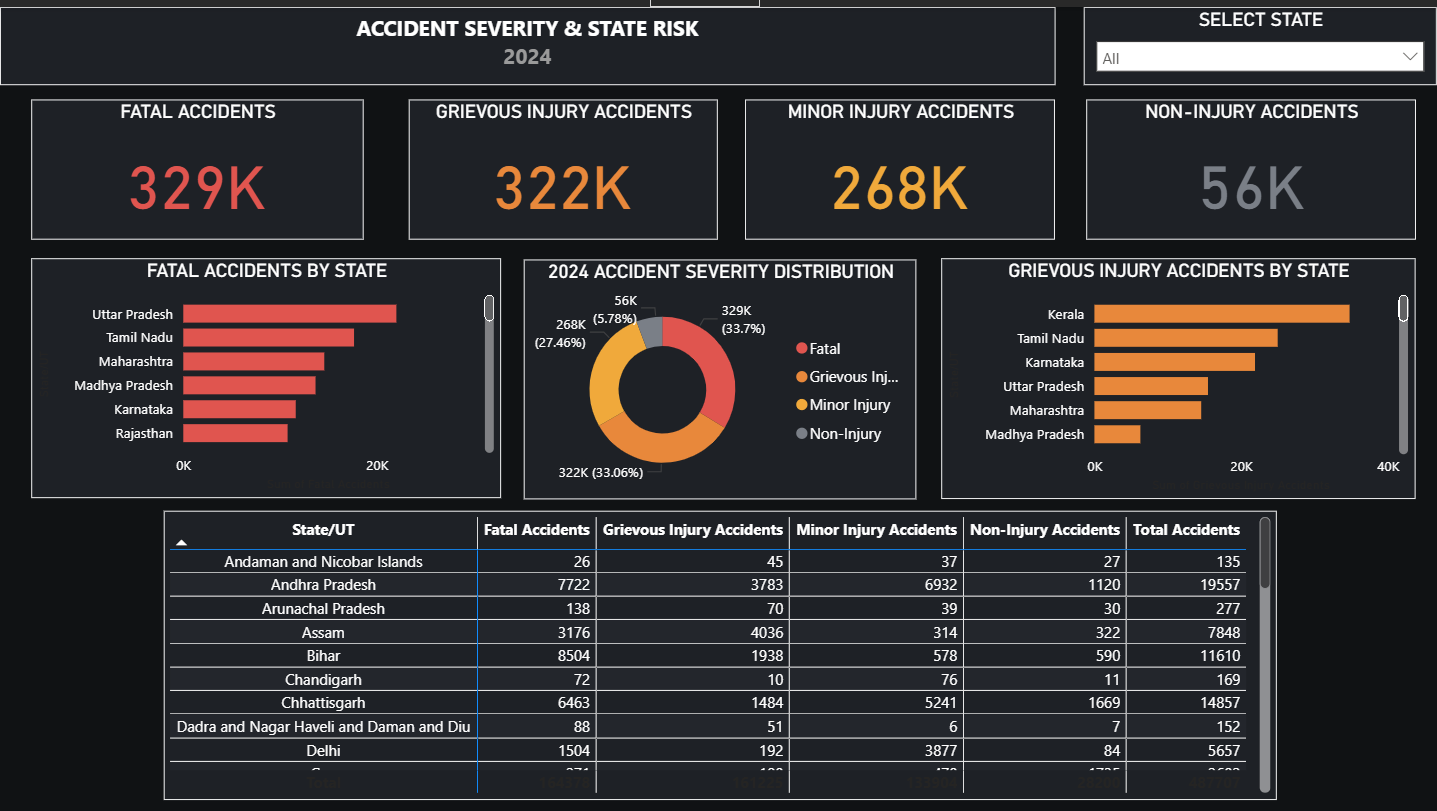

Layout of this report page (visuals, bound fields, positions):
{"tool":"powerbi","page":{"name":"Accident Severity","canvas":[1280,720],"ordinal":1},"visuals":[{"type":"textbox","box":[0,0,939.9,69.9],"z":0},{"type":"slicer","title":"SELECT STATE","fields":{"Values":["State Master.State/UT"]},"box":[965.6,0,314.1,69.9],"z":1000},{"type":"card","title":"FATAL ACCIDENTS","fields":{"Values":["Sum(Accident Types (2024).Fatal Accidents)"]},"box":[28.2,82.2,295.7,125.2],"z":2000},{"type":"card","title":"GRIEVOUS INJURY ACCIDENTS","fields":{"Values":["Sum(Accident Types (2024).Grievous Injury Accidents)"]},"box":[364.4,82.2,274.8,125.2],"z":3000},{"type":"card","title":"MINOR INJURY ACCIDENTS","fields":{"Values":["Sum(Accident Types (2024).Minor Injury Accidents)"]},"box":[663.8,82.2,276.1,125.2],"z":4000},{"type":"card","title":"NON-INJURY ACCIDENTS","fields":{"Values":["Sum(Accident Types (2024).Non-Injury Accidents)"]},"box":[966.9,82.2,293.3,125.2],"z":5000},{"type":"donutChart","title":"2024 ACCIDENT SEVERITY DISTRIBUTION","fields":{"Y":["Sum(Accident Types (2024).Fatal Accidents)","Sum(Accident Types (2024).Grievous Injury Accidents)","Sum(Accident Types (2024).Minor Injury Accidents)","Sum(Accident Types (2024).Non-Injury Accidents)"]},"box":[466.3,224.5,349.7,213.5],"z":6000},{"type":"clusteredBarChart","title":"FATAL ACCIDENTS BY STATE","fields":{"Category":["State Master.State/UT"],"Y":["Sum(Accident Types (2024).Fatal Accidents)"]},"box":[28.2,223.3,418.4,213.5],"z":7000},{"type":"clusteredBarChart","title":"GRIEVOUS INJURY ACCIDENTS BY STATE","fields":{"Category":["State Master.State/UT"],"Y":["Sum(Accident Types (2024).Grievous Injury Accidents)"]},"box":[838,223.3,422.1,214.7],"z":8000},{"type":"pivotTable","fields":{"Rows":["State Master.State/UT"],"Values":["Sum(Accident Types (2024).Fatal Accidents)","Sum(Accident Types (2024).Grievous Injury Accidents)","Sum(Accident Types (2024).Minor Injury Accidents)","Sum(Accident Types (2024).Non-Injury Accidents)","Sum(Accident Types (2024).Total Accidents)"]},"box":[146,449.1,991.4,257.7],"z":9000}]}

Visuals, with their boxes in screenshot pixels (x1, y1, x2, y2), scaled from the page's 1280x720 canvas onto the 1437x811 screenshot:
textbox: region(0, 0, 1055, 79)
"SELECT STATE" slicer: region(1084, 0, 1436, 79)
"FATAL ACCIDENTS" card: region(32, 93, 364, 234)
"GRIEVOUS INJURY ACCIDENTS" card: region(409, 93, 718, 234)
"MINOR INJURY ACCIDENTS" card: region(745, 93, 1055, 234)
"NON-INJURY ACCIDENTS" card: region(1085, 93, 1415, 234)
"2024 ACCIDENT SEVERITY DISTRIBUTION" donutChart: region(523, 253, 916, 493)
"FATAL ACCIDENTS BY STATE" clusteredBarChart: region(32, 252, 501, 492)
"GRIEVOUS INJURY ACCIDENTS BY STATE" clusteredBarChart: region(941, 252, 1415, 493)
pivotTable - State Master.State/UT x Sum(Accident Types (2024).Fatal Accidents): region(164, 506, 1277, 796)
